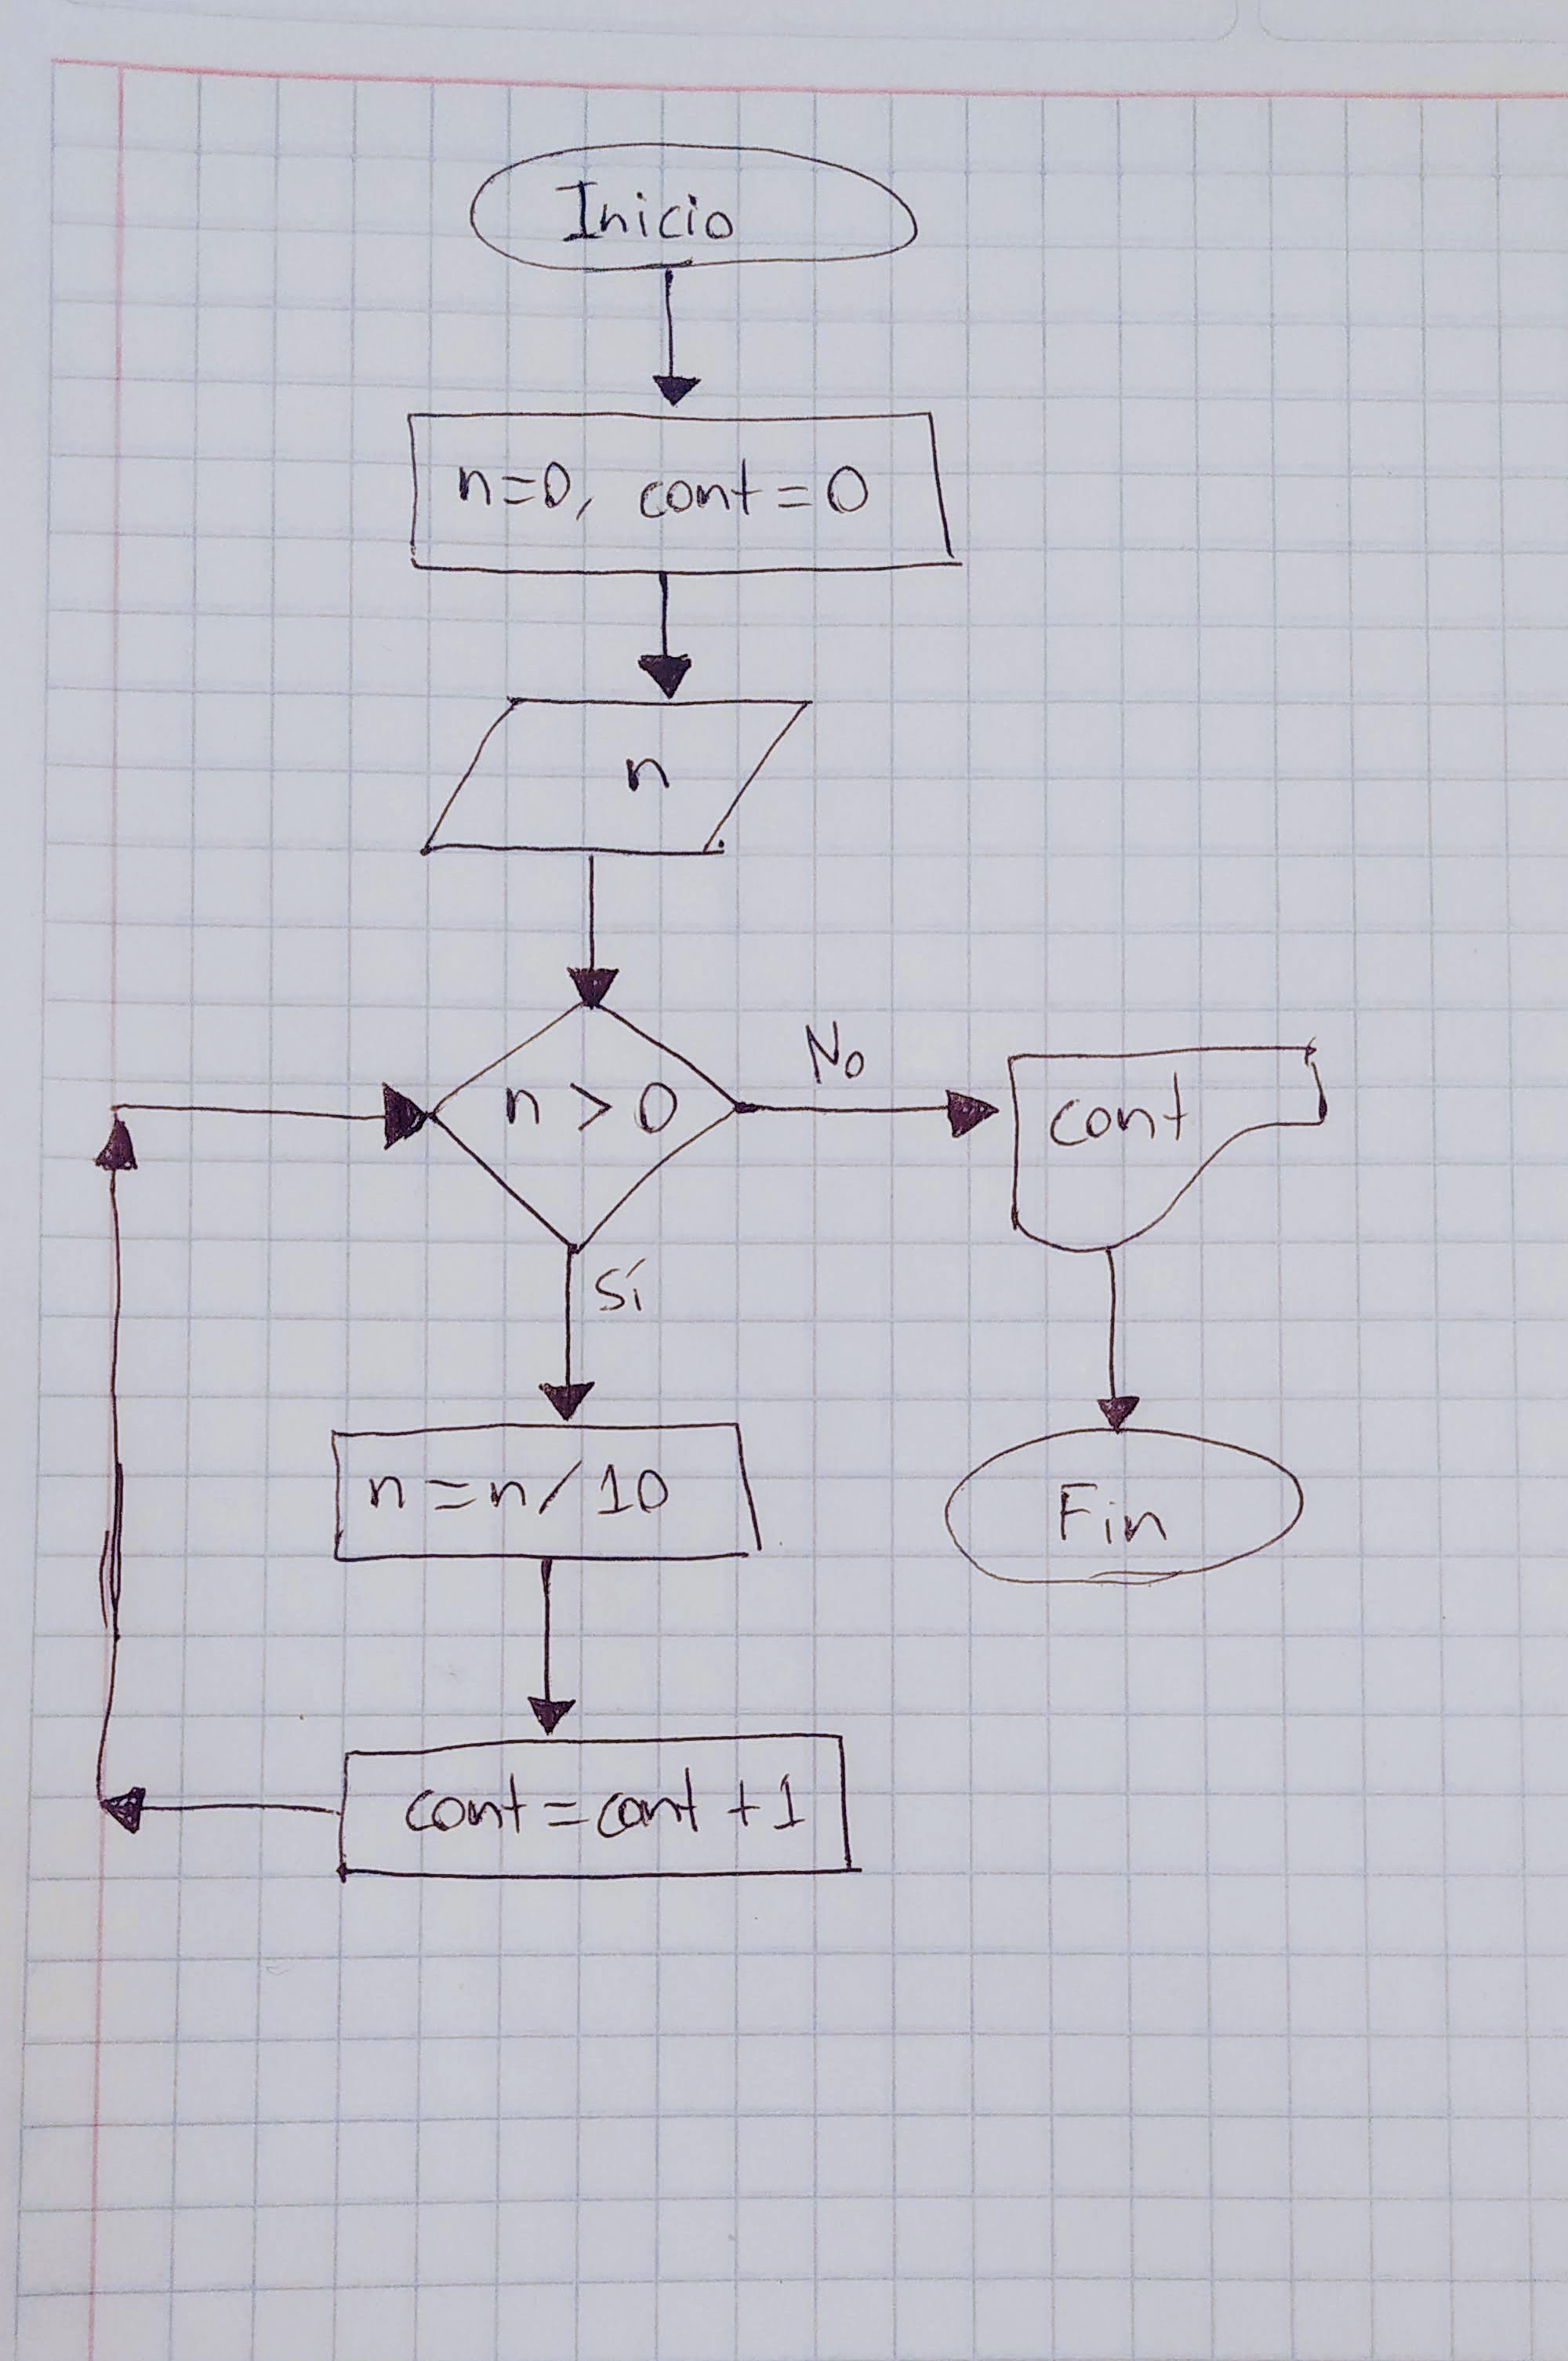arrow_line_down: (518, 1561, 585, 1740), (537, 1246, 598, 1426), (1087, 1244, 1146, 1430), (558, 847, 623, 1017), (642, 264, 709, 413), (628, 572, 695, 707)
arrow_line_left: (95, 1764, 346, 1839)
arrow_line_right: (112, 1071, 445, 1155), (740, 1073, 1001, 1143)
arrow_line_up: (80, 1111, 143, 1834)
decision: (431, 1006, 744, 1253)
print: (994, 1031, 1342, 1258)
process: (390, 399, 976, 590), (324, 1722, 865, 1899), (322, 1412, 775, 1575)
scan: (418, 688, 824, 866)
start_end: (460, 135, 921, 284), (933, 1423, 1314, 1591)
